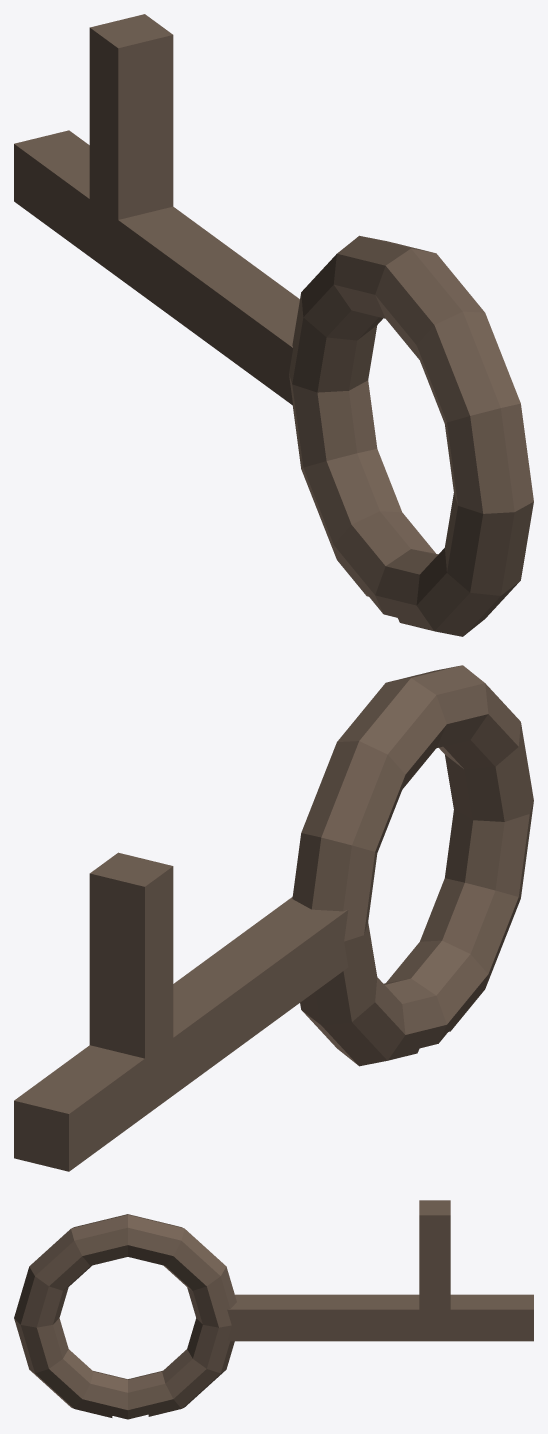
File: keySide.fbx
3 renders of one model, top to bottom at view 1: azimuth 30°, elevation 25°; view 2: azimuth 150°, elevation 25°; view 3: azimuth 270°, elevation 25°, orthographic. The views are drawn at different scales.
Parts seen in each view (by area): view 1: Key Right; view 2: Key Right; view 3: Key Right.
Boxes of the visible parts, x1=… form: Key Right: x1=14, y1=14, x2=533, y2=636; Key Right: x1=14, y1=665, x2=533, y2=1171; Key Right: x1=14, y1=1200, x2=533, y2=1419.
Bounding box in the file's own units: 1.09 × 5.55 × 12.48.
